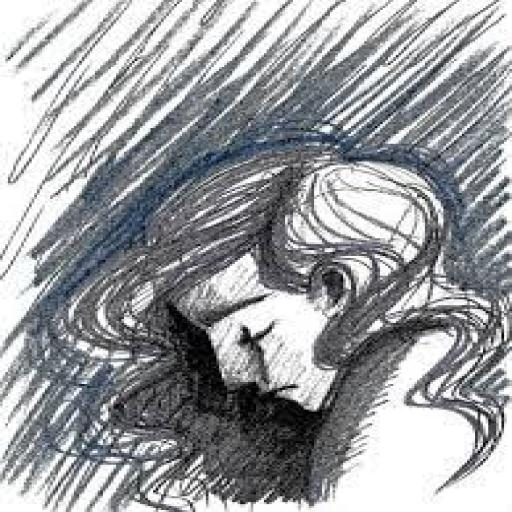person: (28, 125, 512, 510)
